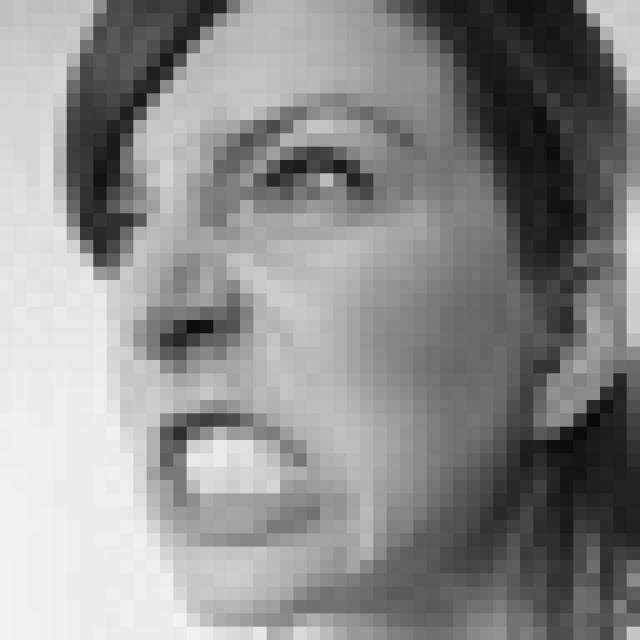angry: (93, 86, 431, 546)
